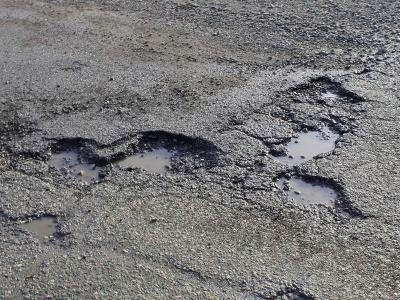pothole: (109, 127, 221, 181), (267, 169, 360, 221), (259, 117, 345, 162), (39, 134, 108, 188), (287, 73, 366, 108), (15, 209, 68, 245), (266, 285, 318, 299)
